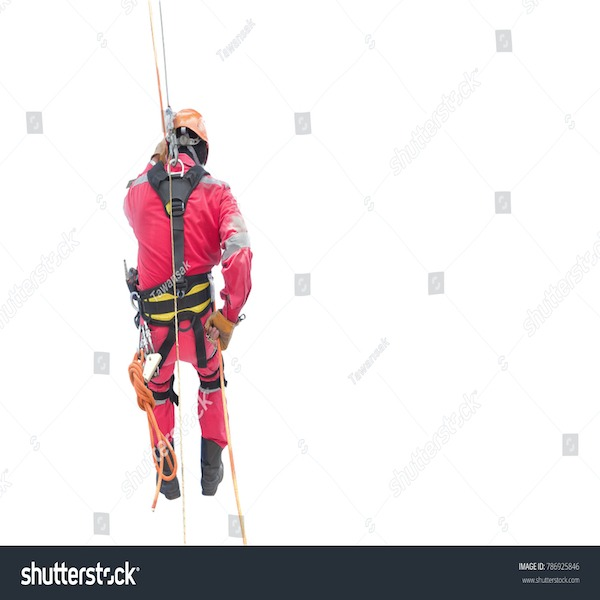helmet: (172, 106, 215, 138)
